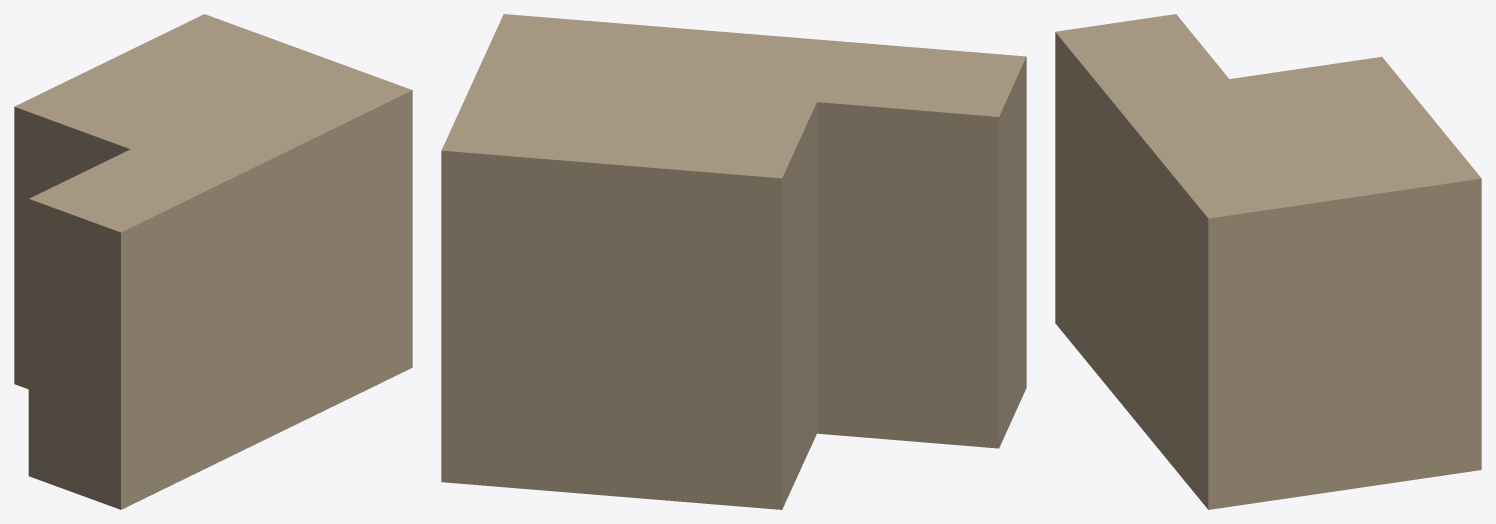
The model's file is bld_100469446.dae.
3 views of the same model, side by side, from view 1: azimuth 30°, elevation 25°; view 2: azimuth 150°, elevation 25°; view 3: azimuth 270°, elevation 25° (orthographic). The views are drawn at different scales.
Visible parts, largest first — view 1: bld_100469446; view 2: bld_100469446; view 3: bld_100469446.
Part boxes in pixels (x1,y1,x2,y2): bld_100469446: (14, 14, 412, 509); bld_100469446: (441, 14, 1026, 509); bld_100469446: (1055, 14, 1481, 509).
Bounding box in the file's own units: 12.05 × 10.61 × 8.
